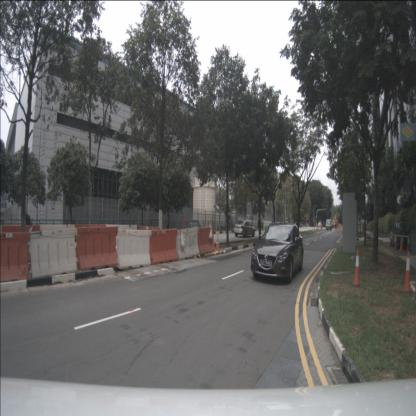barrier: (29, 227, 78, 279), (76, 224, 119, 271), (0, 232, 31, 285), (1, 224, 42, 262), (116, 229, 152, 271), (39, 224, 77, 260), (149, 226, 178, 266), (74, 223, 107, 256), (105, 224, 138, 248), (176, 225, 199, 259), (138, 225, 160, 252), (197, 226, 214, 254)
cone: (400, 250, 414, 295), (351, 250, 362, 288), (215, 233, 222, 254), (406, 232, 412, 254), (399, 234, 404, 251), (389, 229, 393, 247), (394, 233, 398, 250)
